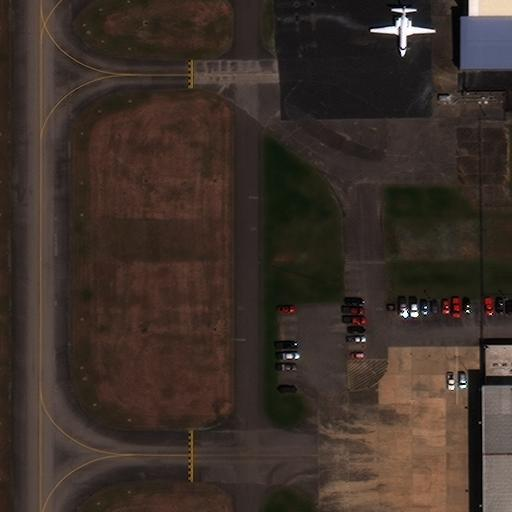Medium Civil Transport: (369, 3, 434, 56)
